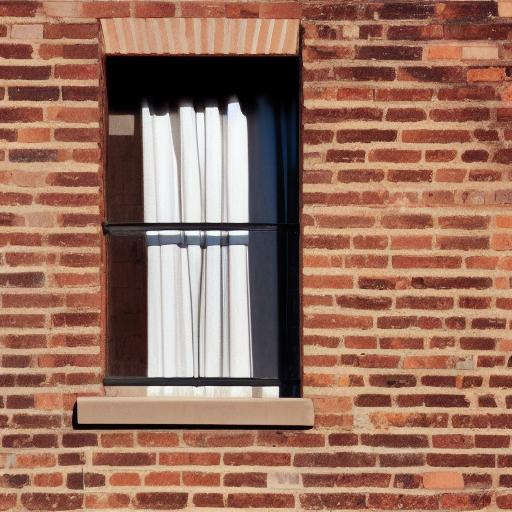Window: (77, 18, 319, 429)
